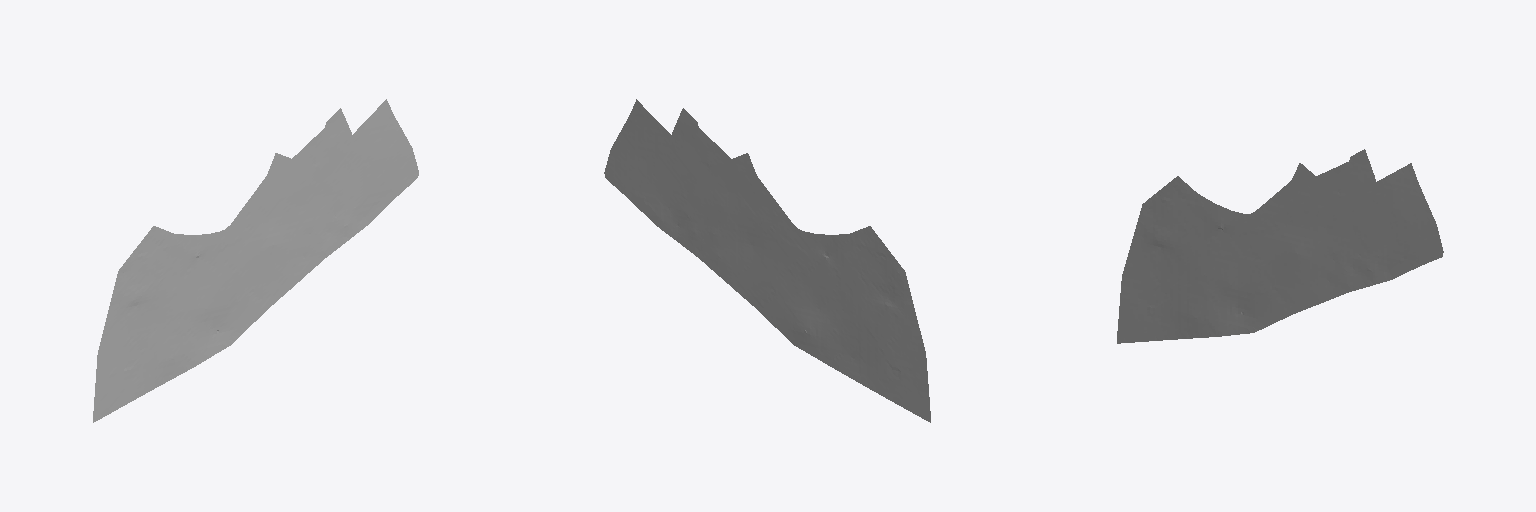
The model's file is 0_1Top.obj.
The picture shows the model from 3 angles: view 1: azimuth 30°, elevation 25°; view 2: azimuth 150°, elevation 25°; view 3: azimuth 330°, elevation 25°; orthographic projection.
Size of the model in its own units: 57.18 by 42.68 by 0.2333.